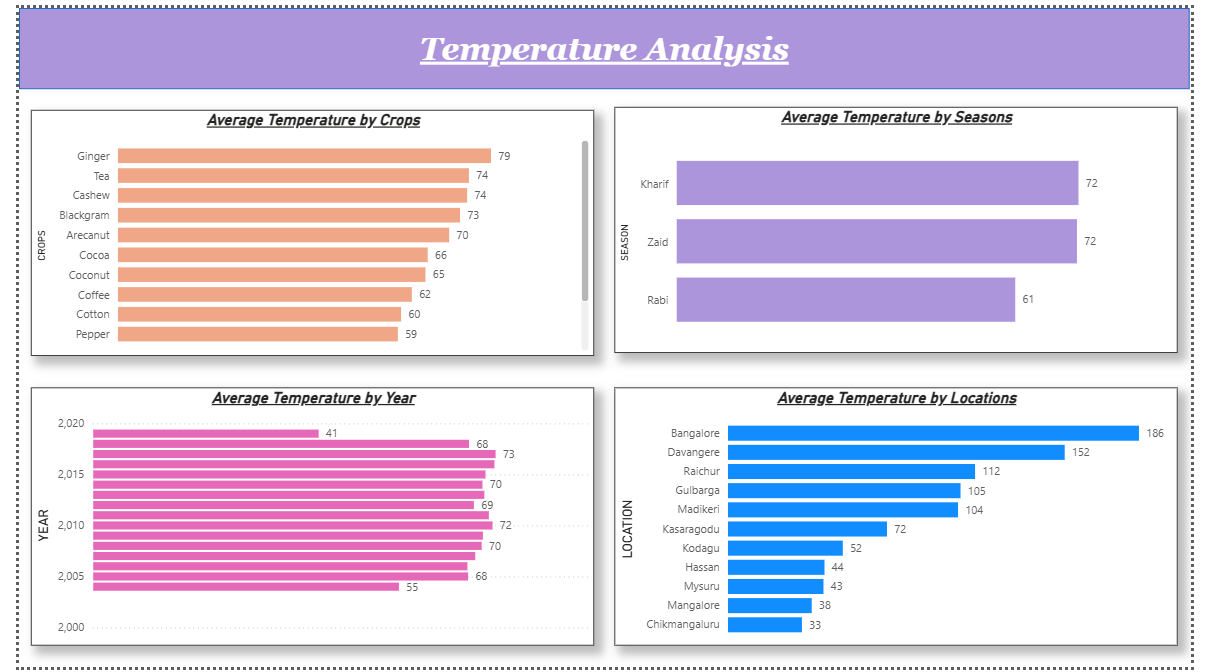

The page's visual inventory and layout, read from the dashboard file:
{"tool":"powerbi","page":{"name":"Temperature Analysis","canvas":[1280,720],"ordinal":2},"visuals":[{"type":"shape","box":[0,0,1279.4,88.8],"z":0},{"type":"barChart","title":"Average Temperature by Crops","fields":{"Category":["AGRICULTURE.CROPS"],"Y":["Avg(AGRICULTURE.TEMPERATURE)"]},"box":[13.3,111.1,615.6,268.9],"z":1000},{"type":"barChart","title":"Average Temperature by Seasons","fields":{"Category":["AGRICULTURE.SEASON"],"Y":["Avg(AGRICULTURE.TEMPERATURE)"]},"box":[651.1,108.9,615.6,268.9],"z":2000},{"type":"barChart","title":"Average Temperature by Year","fields":{"Category":["AGRICULTURE.YEAR"],"Y":["Avg(AGRICULTURE.TEMPERATURE)"]},"box":[13.3,415.6,615.6,282.2],"z":3000},{"type":"barChart","title":"Average Temperature by Locations","fields":{"Category":["AGRICULTURE.LOCATION"],"Y":["Avg(AGRICULTURE.TEMPERATURE)"]},"box":[651.1,415.6,615.6,282.2],"z":4000}]}

Visuals, with their boxes in screenshot pixels (x1, y1, x2, y2), scaled from the page's 1280x720 canvas onto the 1207x672 screenshot:
shape: bbox=(0, 0, 1206, 83)
"Average Temperature by Crops" barChart: bbox=(13, 104, 593, 355)
"Average Temperature by Seasons" barChart: bbox=(614, 102, 1194, 353)
"Average Temperature by Year" barChart: bbox=(13, 388, 593, 651)
"Average Temperature by Locations" barChart: bbox=(614, 388, 1194, 651)
